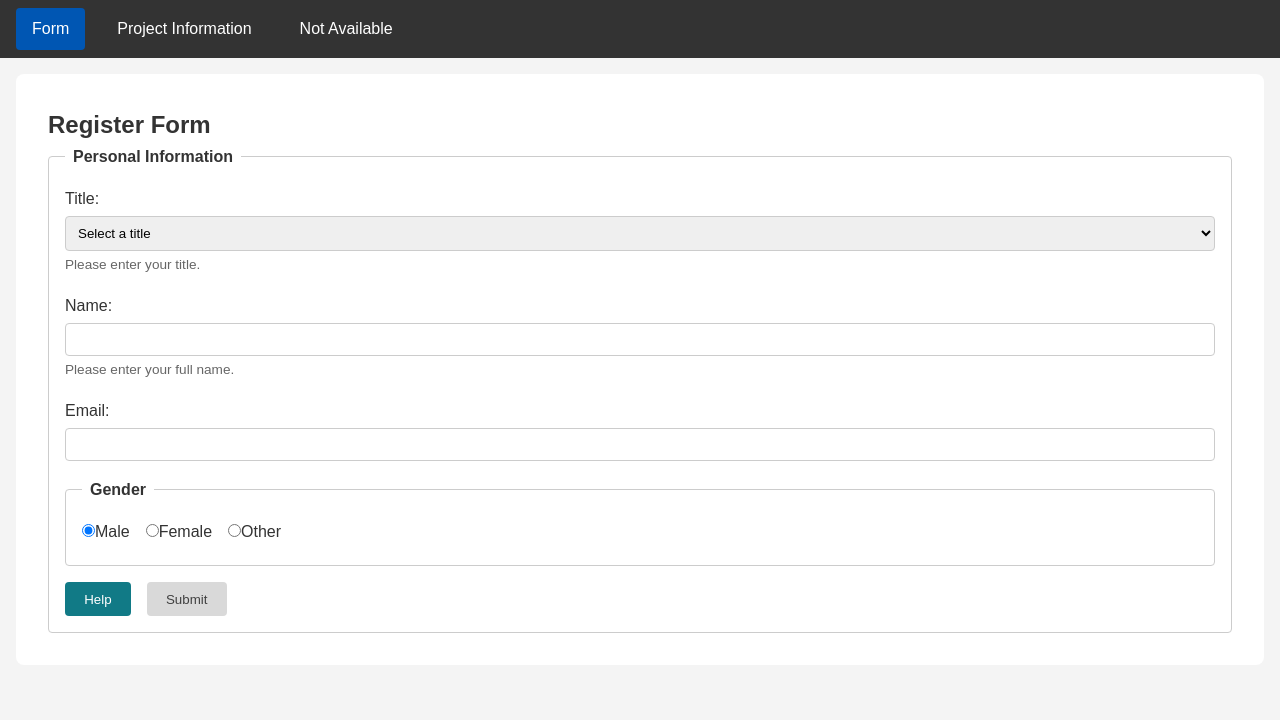
Test: Accessibility and Functional Coverage Tests › Should display error messages when form is submitted with invalid inputs
Attempt to submit the form without filling any fields
Click the button "Submit" at (187, 599), box [147,582,227,616]
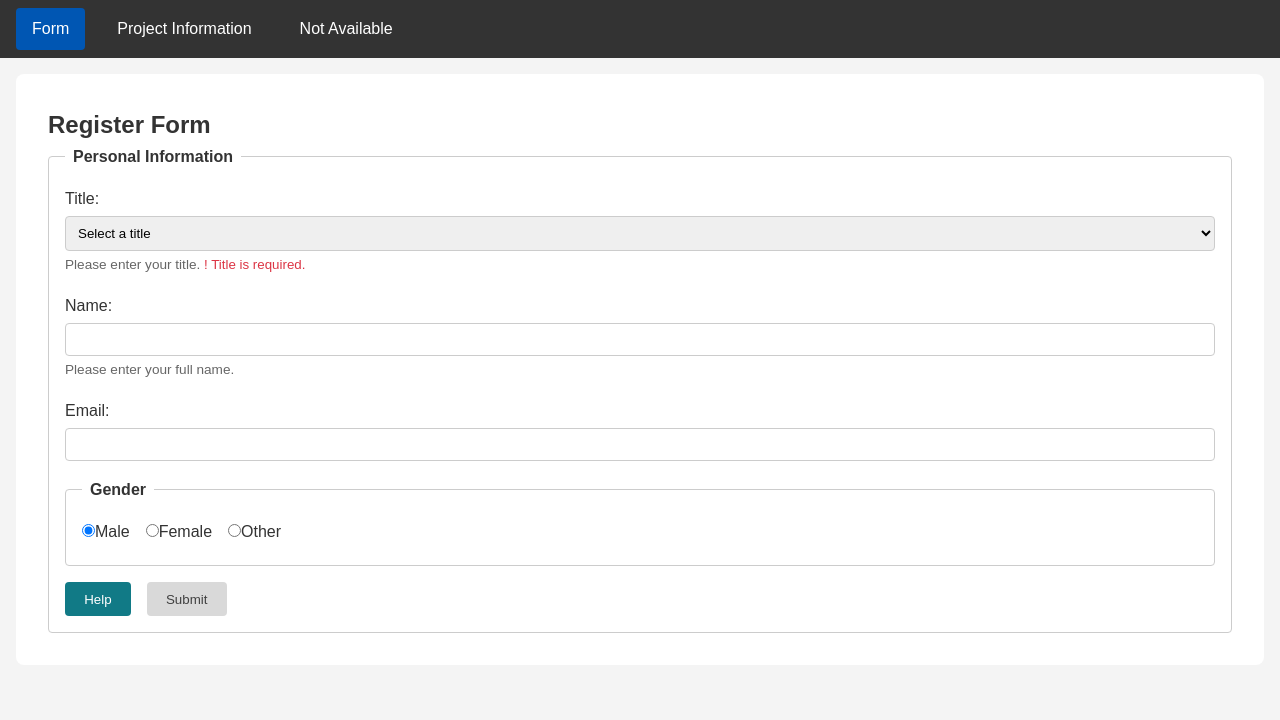
Now the text "! Title is required." is shown, box [200,257,306,272]
